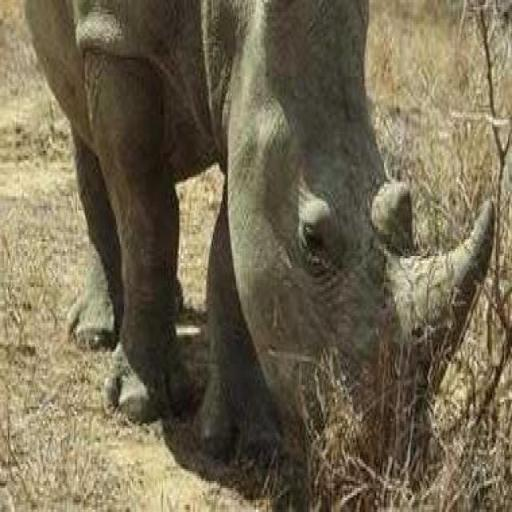Rhino: (22, 0, 494, 474)
